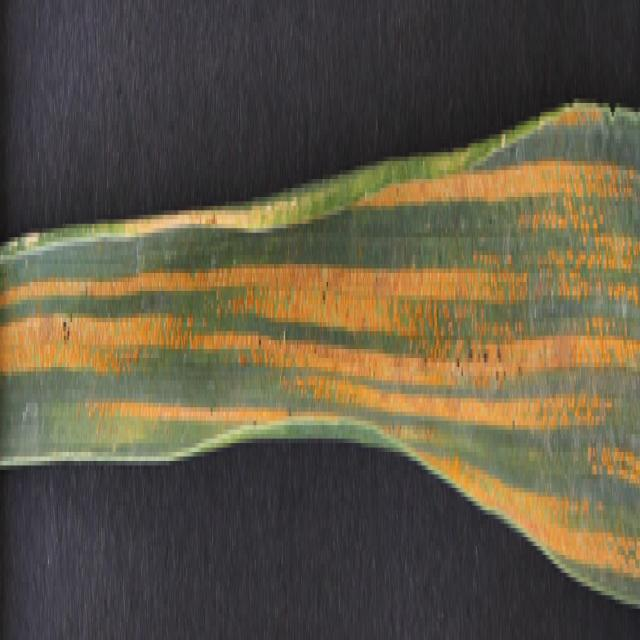leaf rust: (2, 148, 640, 573)
